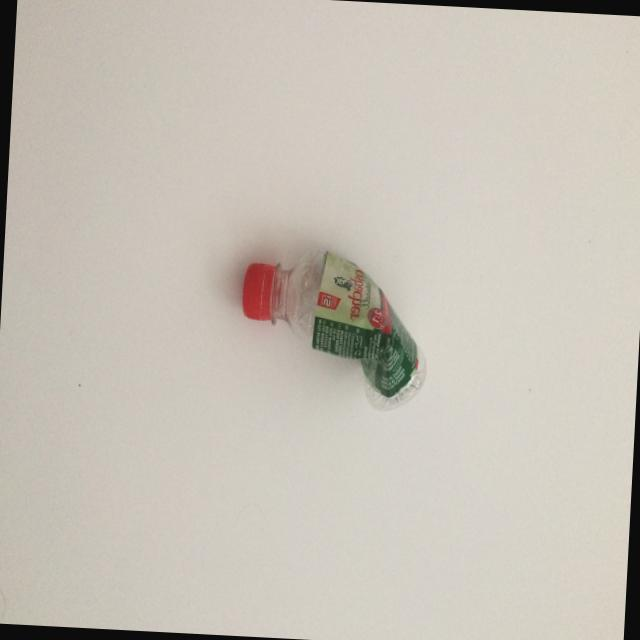Plastic: (187, 171, 467, 458)
